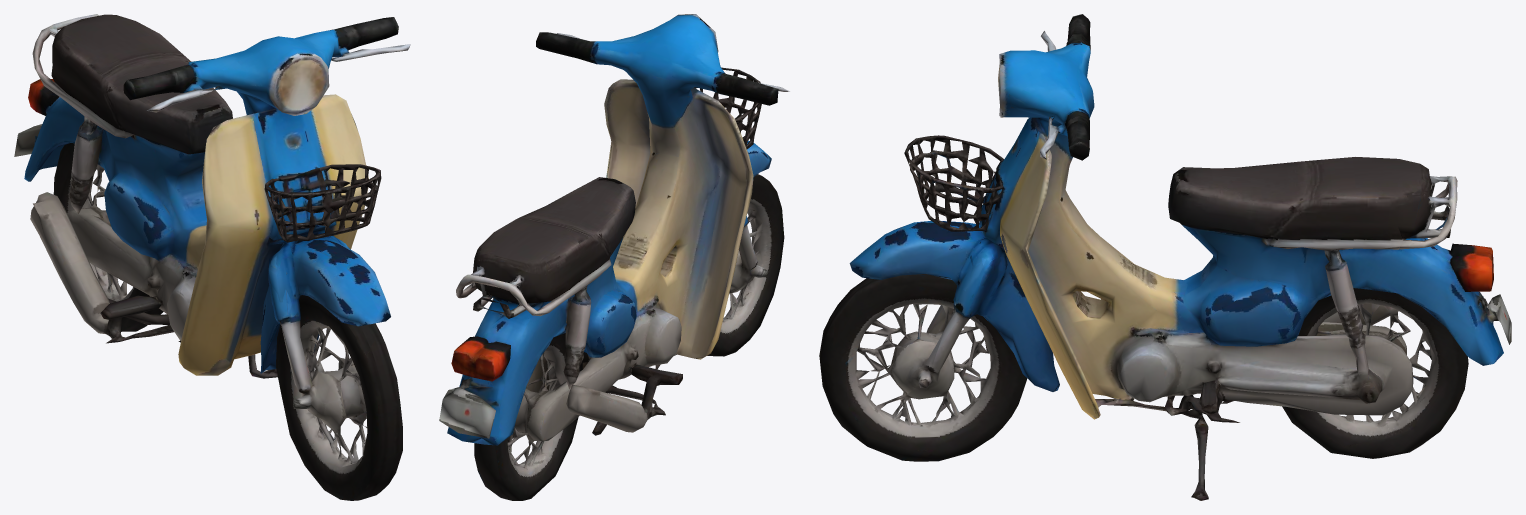
The model's file is motorbike.glb.
3 views of the same model, side by side, from view 1: azimuth 30°, elevation 25°; view 2: azimuth 150°, elevation 25°; view 3: azimuth 270°, elevation 25° (orthographic). The views are drawn at different scales.
Size of the model in its own units: 0.439 by 0.6469 by 0.9923.
1 material, 1 textured.
